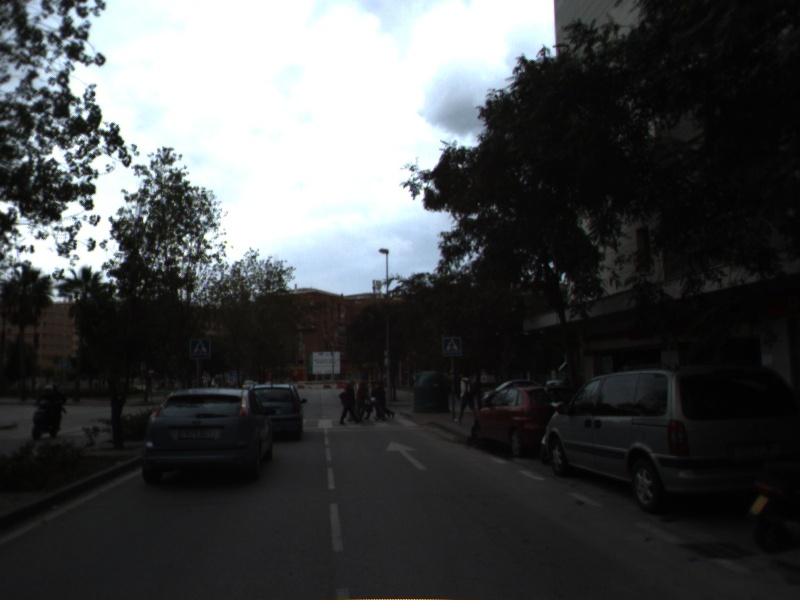STRAIGHT: (384, 439, 431, 473)
